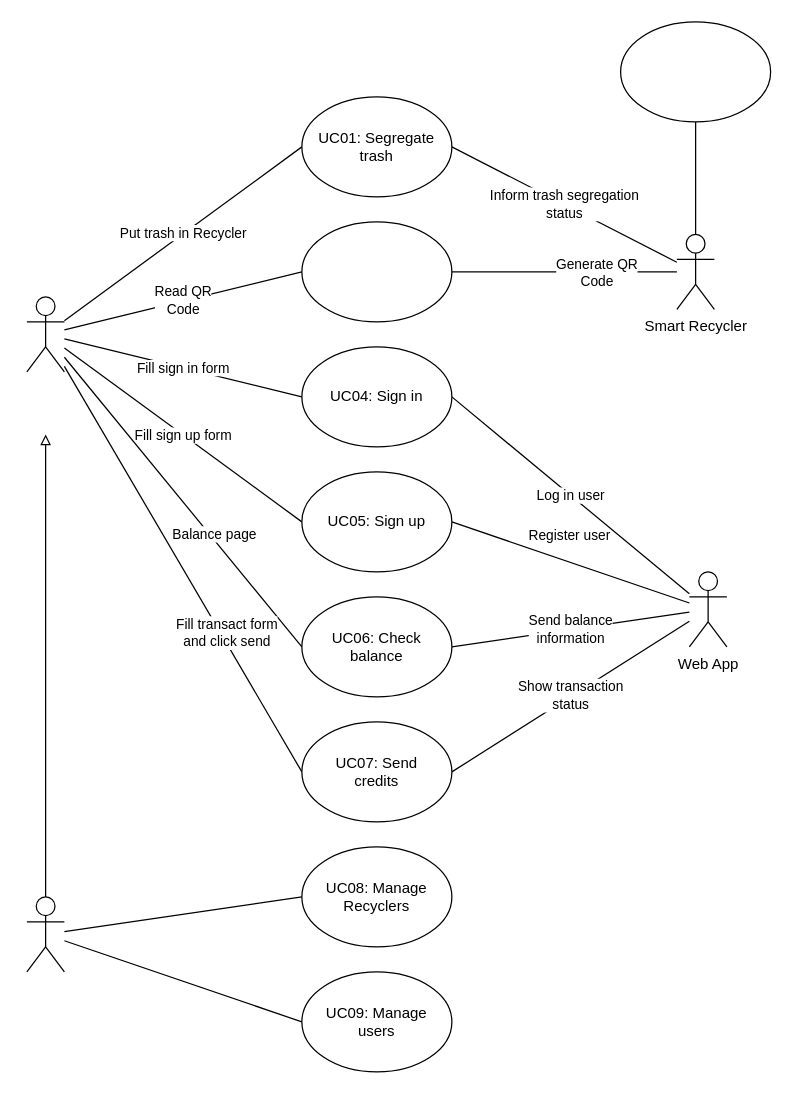
This 793x1094 diagram has some shape labels left out. The centre of each missing label's shape, as x and y in pixels:
"Admin Actor" goes at point 45,934.
"Normal Actor" goes at point 45,334.
"UC02: Show QR Code" goes at point 376,271.
"UC03: Classify trash" goes at point 695,71.
